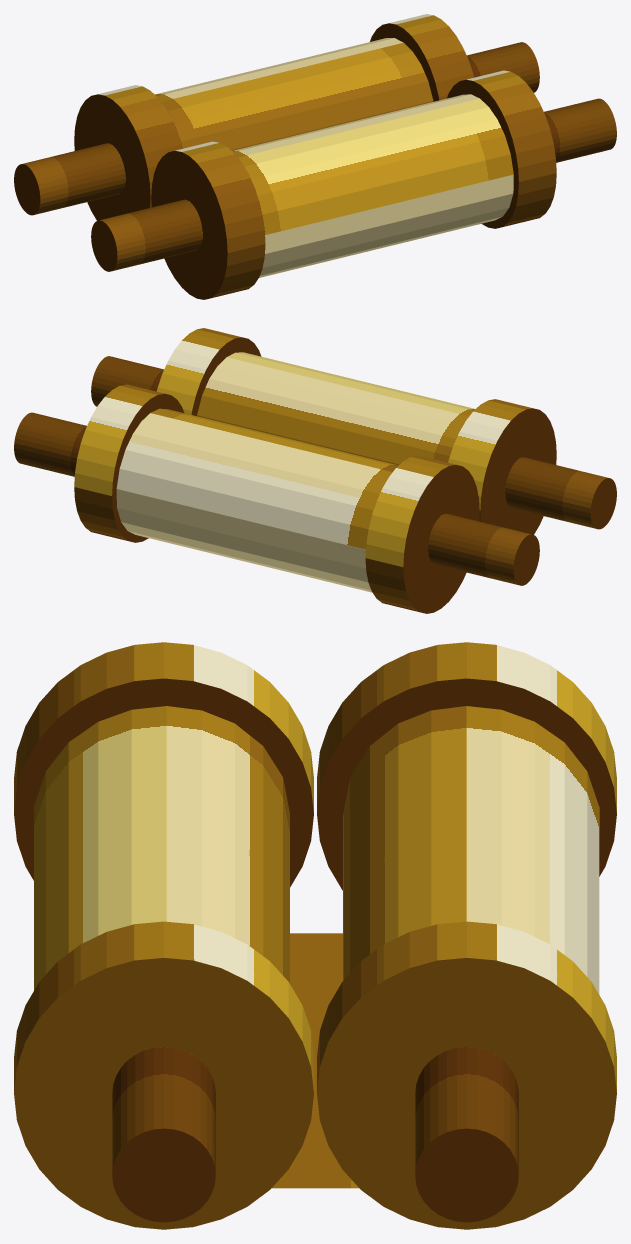
Rendered from scroll_797_00.obj.
3 renders of one model, top to bottom at view 1: azimuth 30°, elevation 25°; view 2: azimuth 150°, elevation 25°; view 3: azimuth 270°, elevation 25°, orthographic. The views are drawn at different scales.
Visible parts, largest first — view 1: Plane; view 2: Plane; view 3: Plane.
Boxes of the visible parts, box(x1,y1,x2,y2) form: Plane: box(14, 14, 616, 299); Plane: box(14, 328, 616, 613); Plane: box(14, 642, 616, 1229).
Size of the model in its own units: 2.2 by 0.582 by 1.17.
